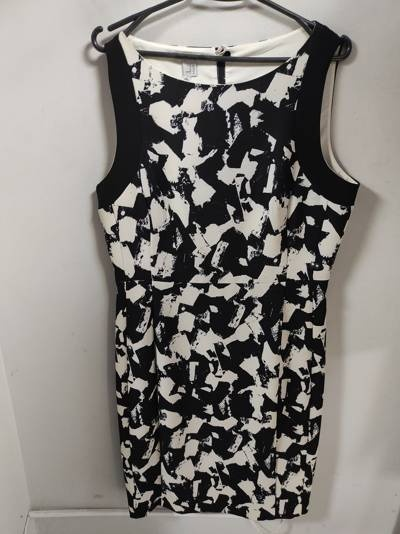Dress: (85, 10, 391, 528)
